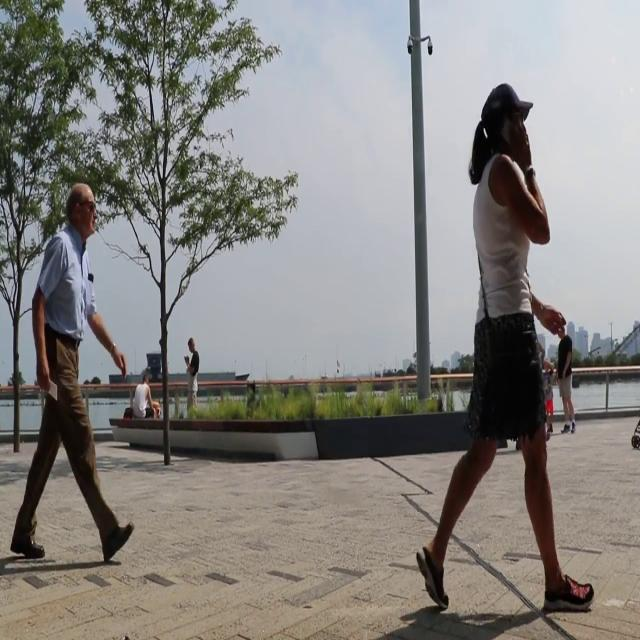normal: (413, 80, 603, 619), (9, 174, 140, 567)
